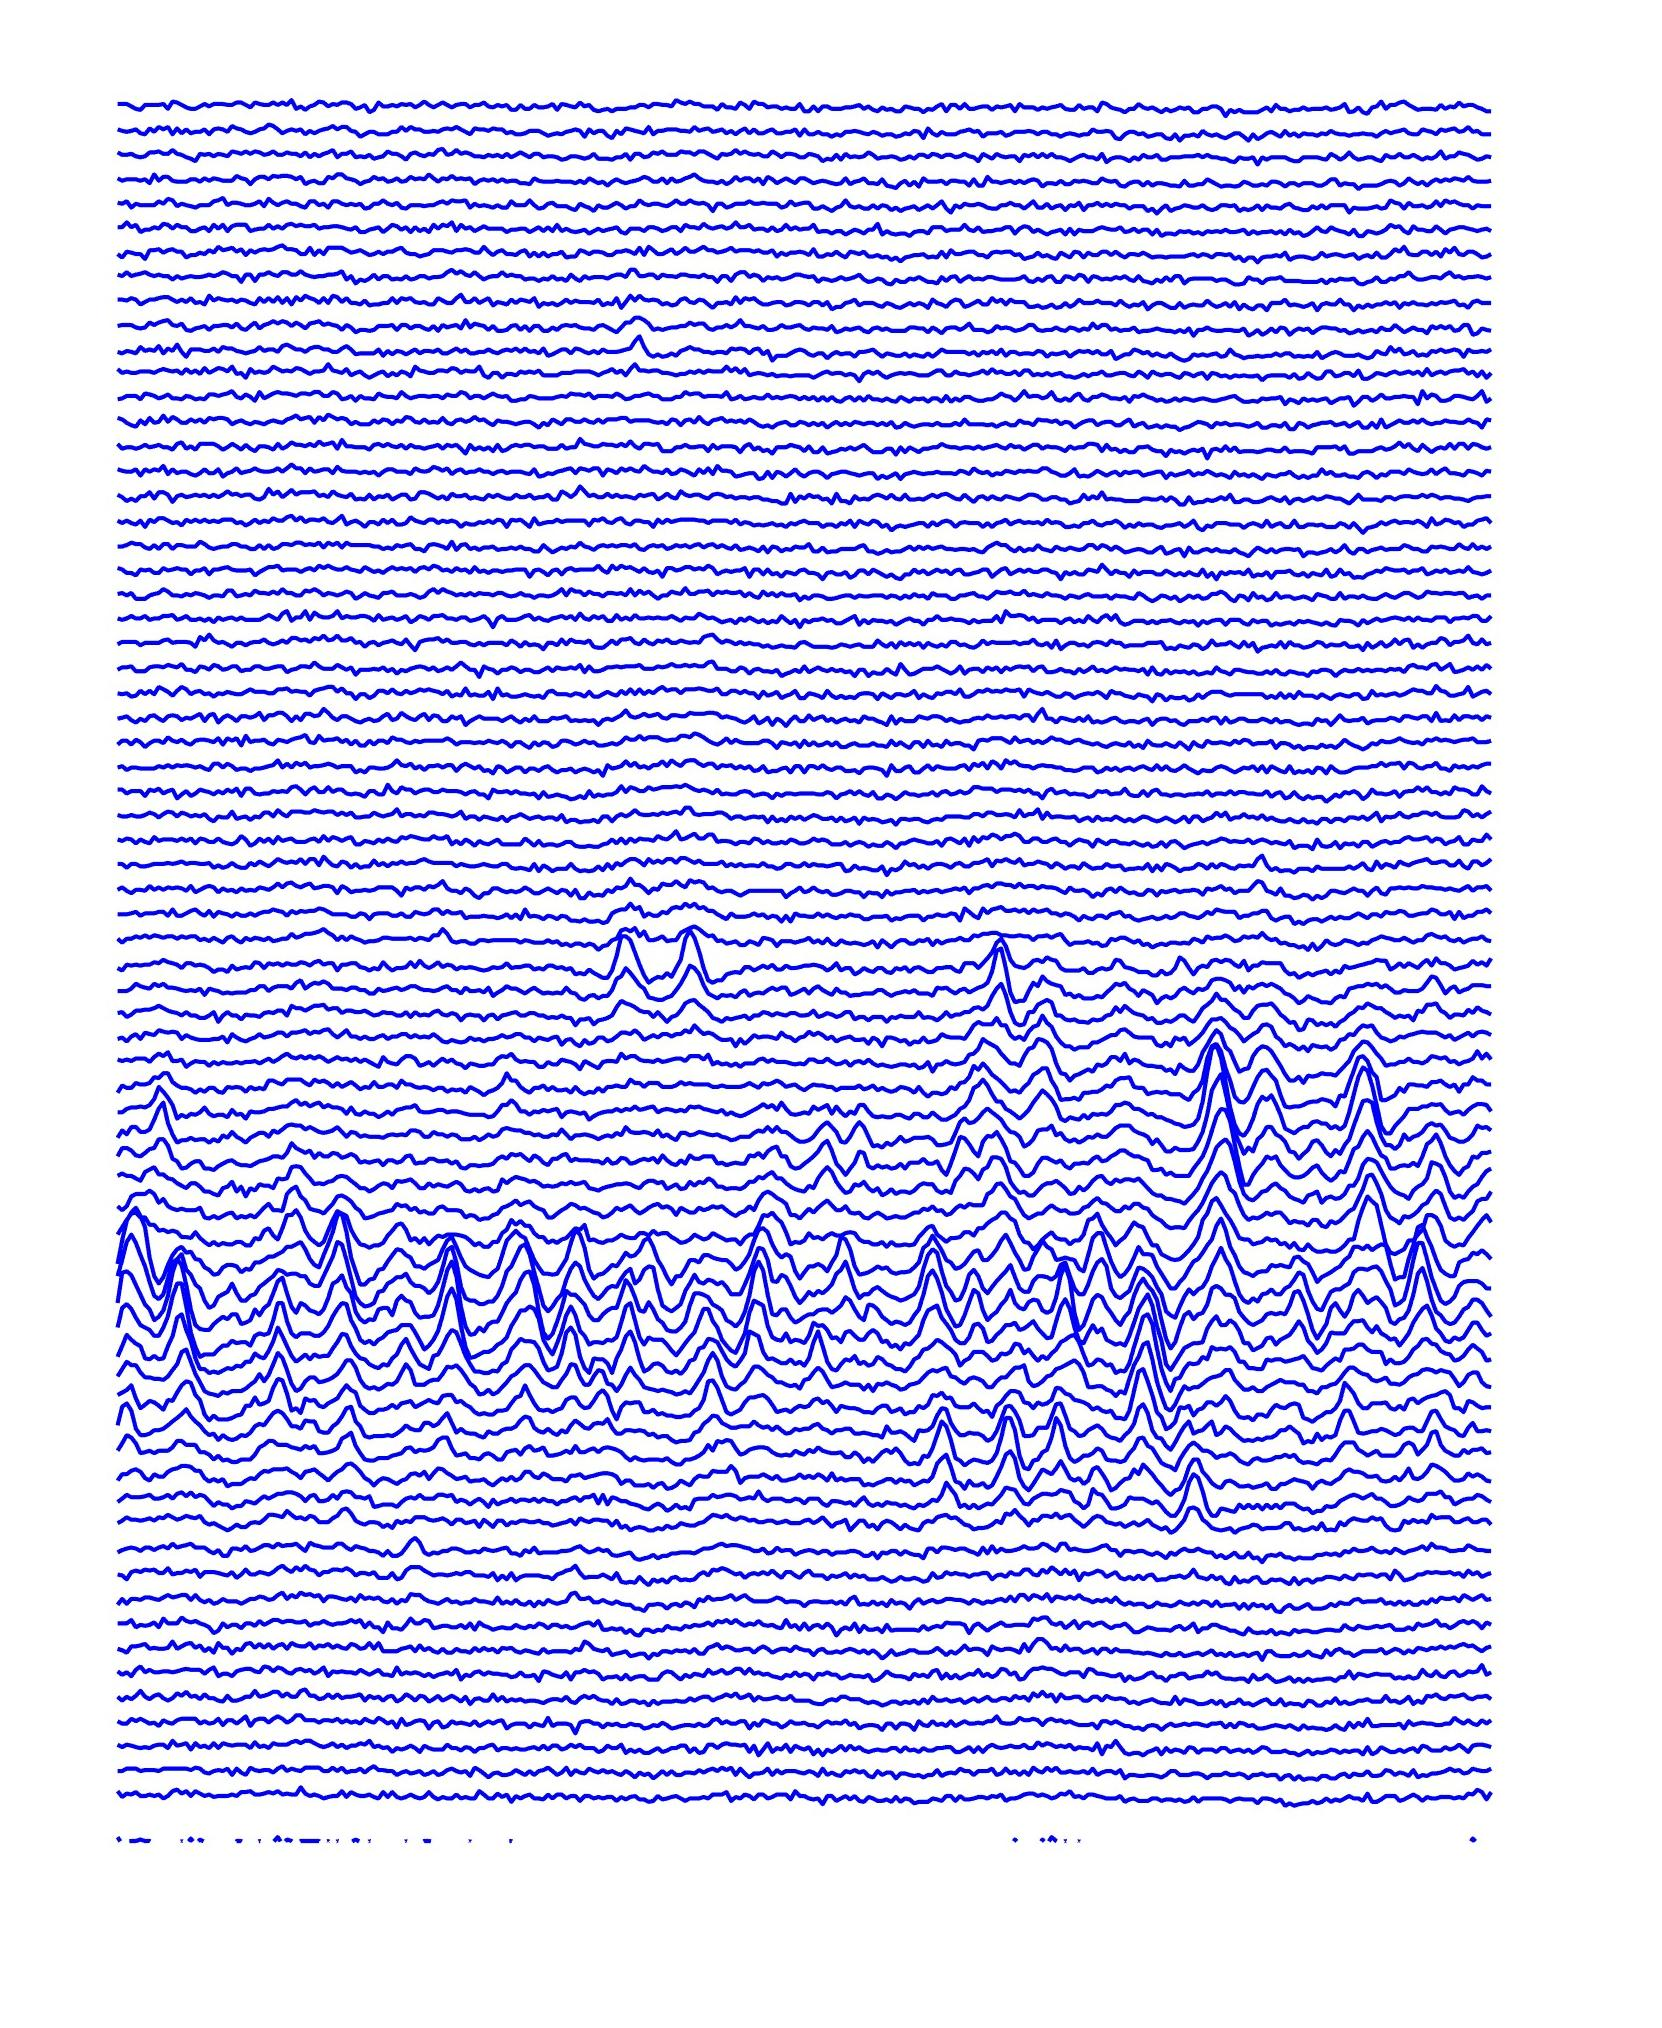defect: (500, 1196, 670, 1450), (1174, 1017, 1253, 1317), (318, 1194, 372, 1519), (674, 1268, 744, 1481), (1121, 1233, 1175, 1508), (1329, 1044, 1393, 1258), (1393, 1127, 1458, 1332), (1320, 1270, 1384, 1445), (798, 1097, 896, 1211), (111, 1189, 155, 1440), (152, 1233, 209, 1418), (244, 1230, 295, 1427), (911, 1221, 982, 1361), (945, 1068, 1019, 1187), (1078, 1198, 1121, 1395), (1014, 987, 1069, 1140), (377, 1211, 419, 1405), (423, 1219, 468, 1385), (1248, 1024, 1297, 1177), (985, 1391, 1036, 1524), (596, 916, 650, 1034), (1042, 1231, 1083, 1374), (919, 1383, 962, 1519), (1174, 1406, 1223, 1523), (1276, 1233, 1318, 1368), (744, 1214, 781, 1351), (674, 920, 721, 1024), (802, 1316, 849, 1396), (827, 1214, 867, 1305), (141, 1066, 180, 1157), (982, 937, 1022, 1021)
